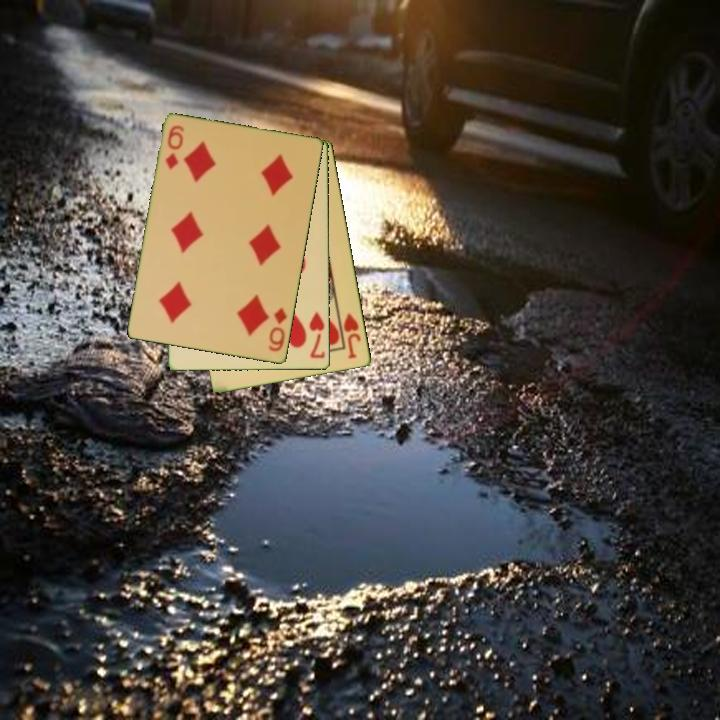6d: (265, 304, 290, 355), (162, 122, 187, 173)
7h: (306, 309, 328, 361)
Jh: (336, 308, 364, 362)
